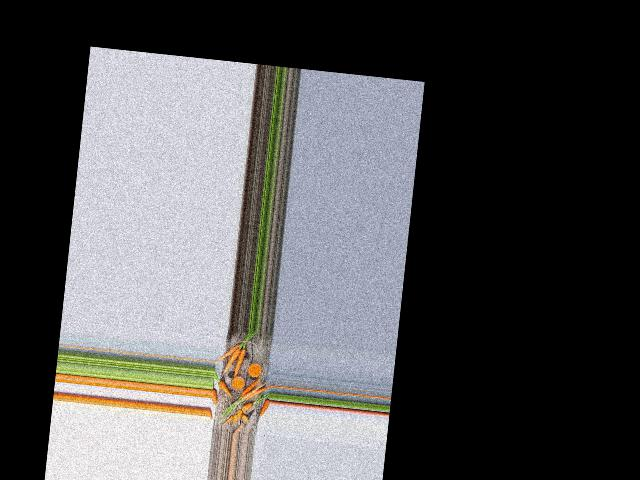carrot: (215, 337, 242, 368)
